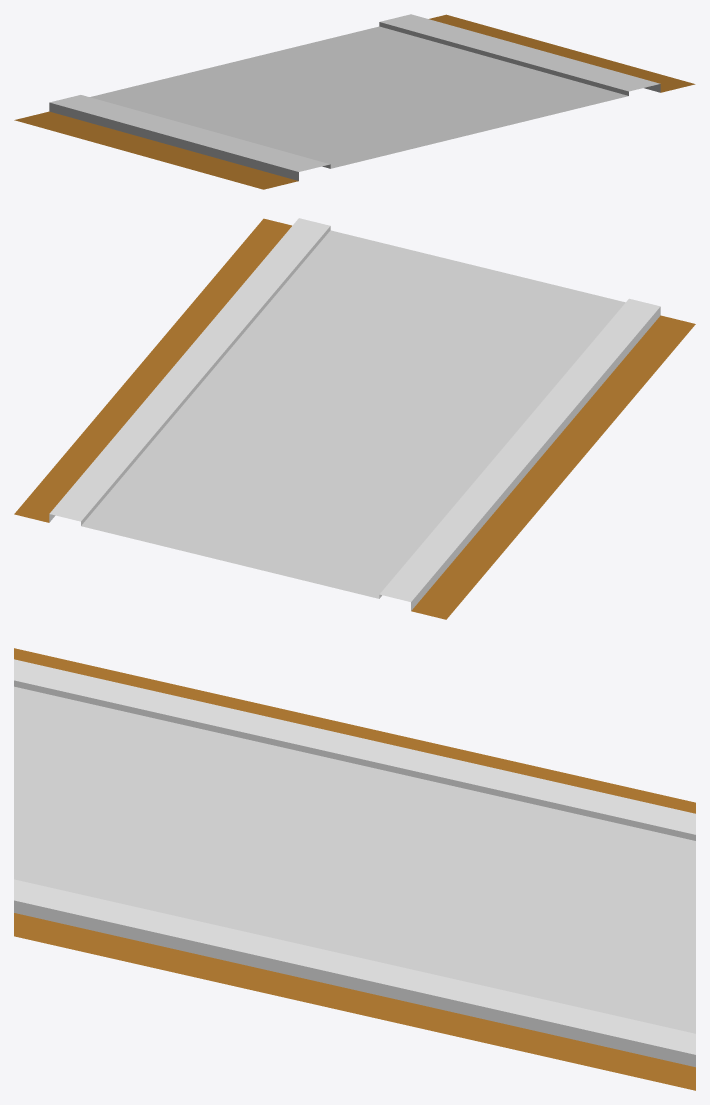
The model's file is Road_Ramp.fbx.
The picture shows the model from 3 angles, top to bottom: view 1: azimuth 30°, elevation 25°; view 2: azimuth 150°, elevation 25°; view 3: azimuth 270°, elevation 25°; orthographic projection. The views are drawn at different scales.
Visible parts, largest first — view 1: roadRamp.001; view 2: roadRamp.001; view 3: roadRamp.001.
Boxes of the visible parts, x1,y1,x2,y2 form: roadRamp.001: [14, 14, 695, 189]; roadRamp.001: [14, 218, 695, 619]; roadRamp.001: [14, 648, 695, 1090].
Bounding box in the file's own units: 100 × 27 × 100.
